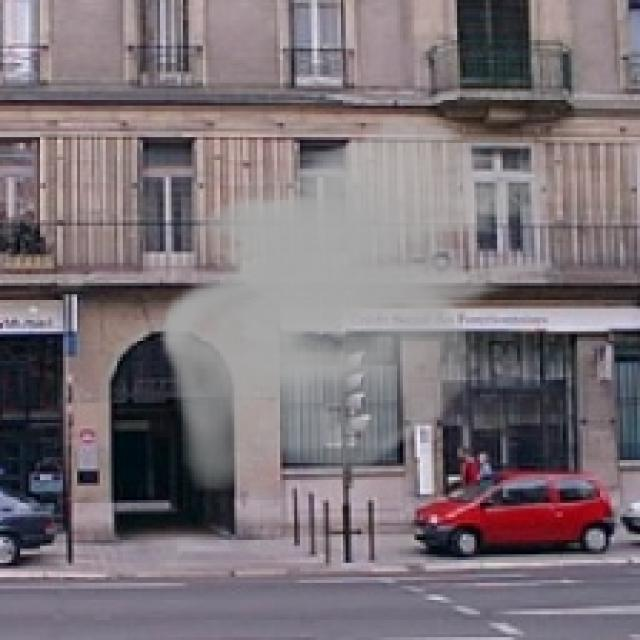smoke: (160, 111, 557, 492)
